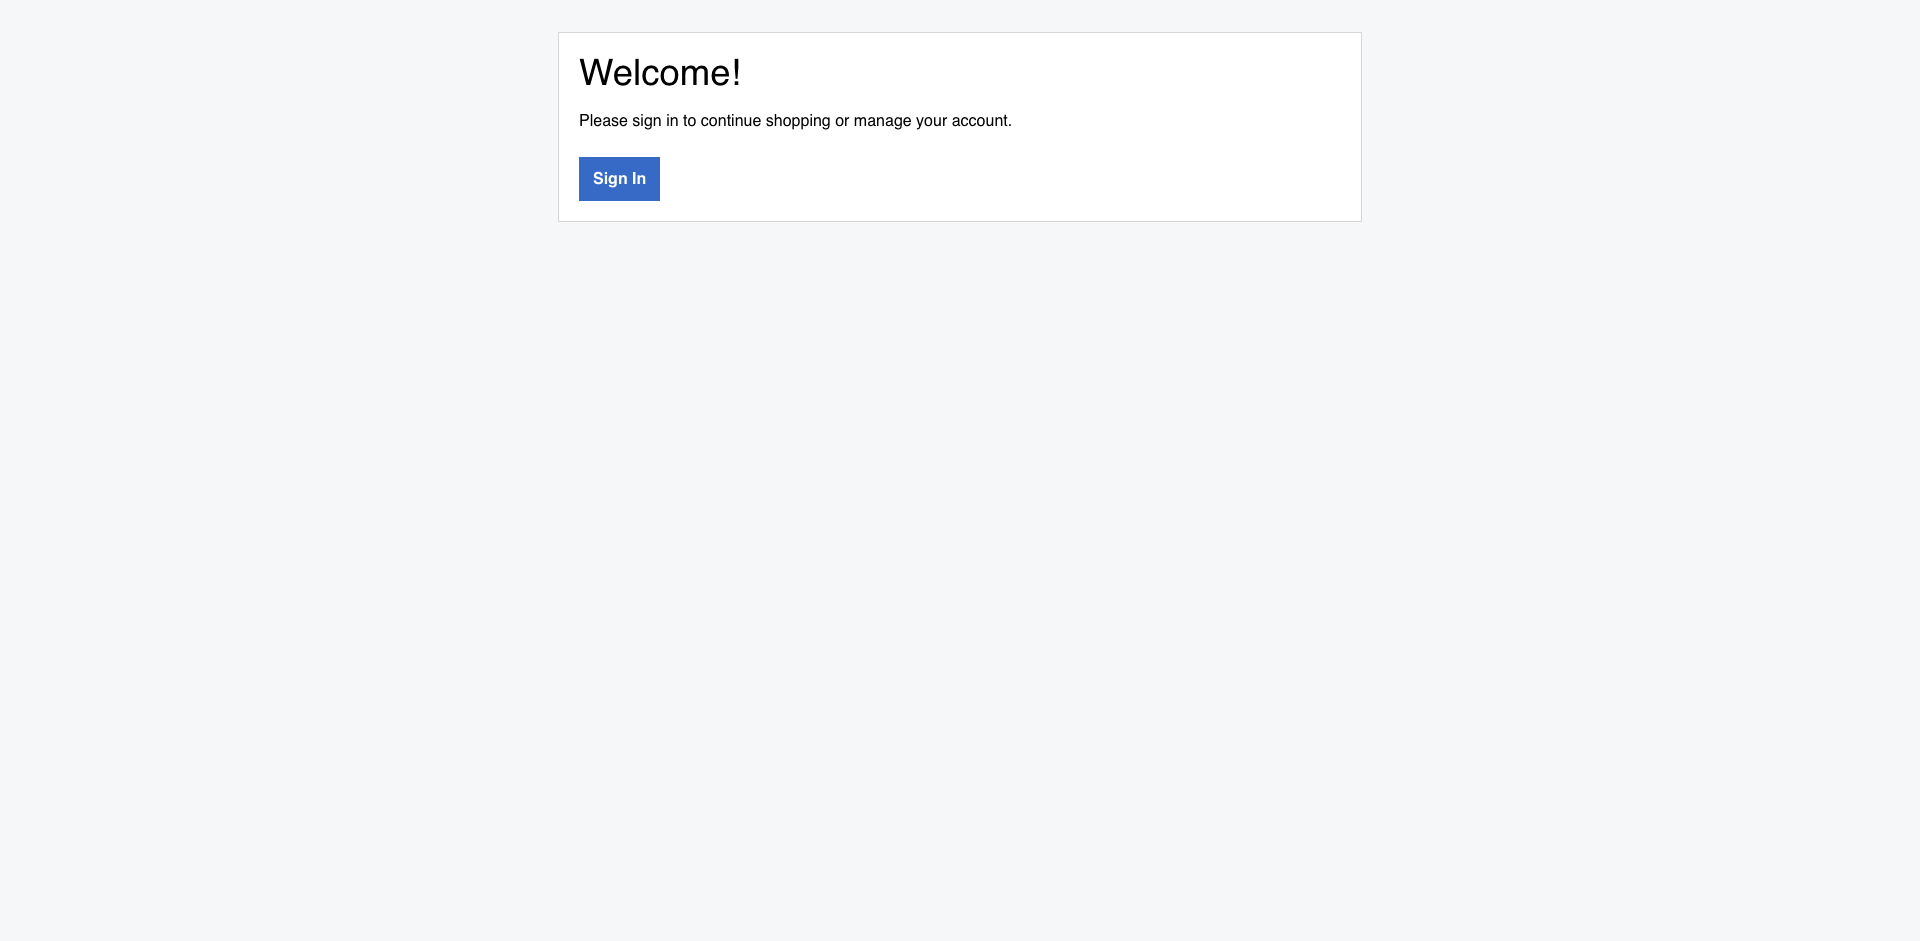button: (579, 157, 660, 201), (593, 167, 647, 191)
